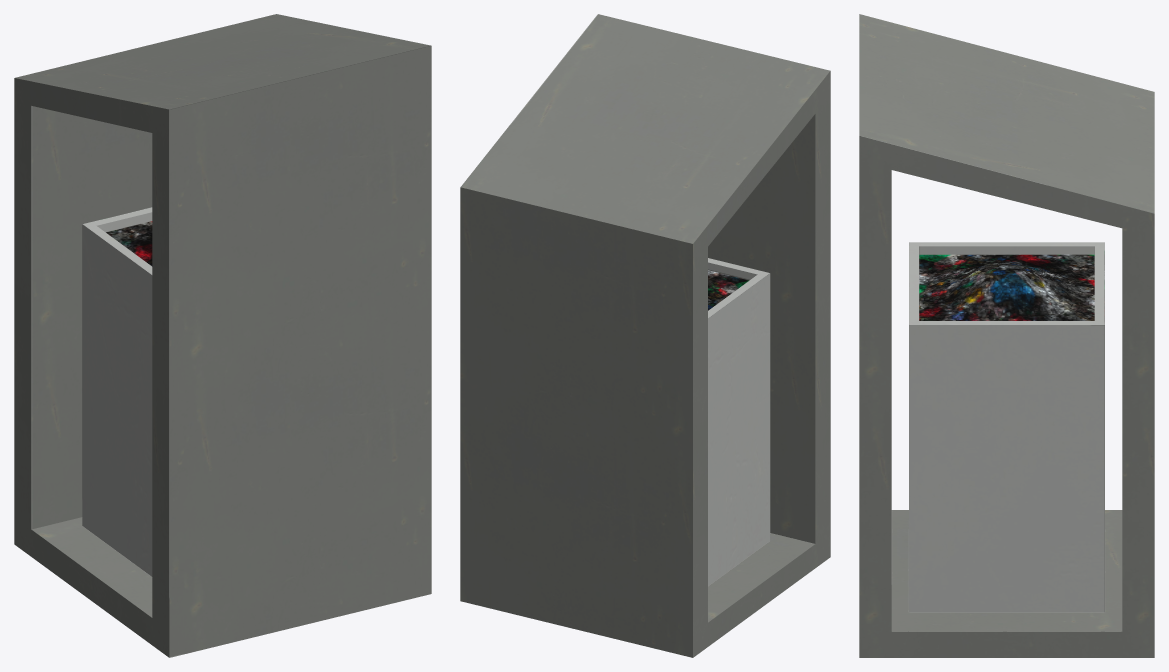
File: Kos_A.fbx
The picture shows the model from 3 angles, left to right: view 1: azimuth 30°, elevation 25°; view 2: azimuth 150°, elevation 25°; view 3: azimuth 270°, elevation 25°; orthographic projection. The views are drawn at different scales.
Parts seen in each view (by area): view 1: Kos_A; view 2: Kos_A; view 3: Kos_A.
Boxes of the visible parts, bbox=[...] form: Kos_A: bbox=[14, 14, 431, 657]; Kos_A: bbox=[460, 14, 830, 657]; Kos_A: bbox=[859, 14, 1154, 657].
Bounding box in the file's own units: 50 × 99.97 × 51.21.
